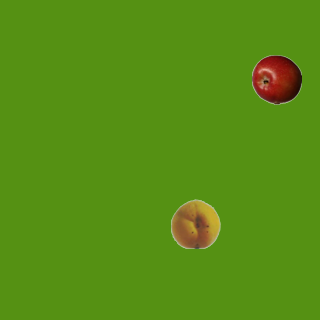Apple Braeburn: (251, 54, 301, 104)
Peach 2: (170, 198, 220, 248)
